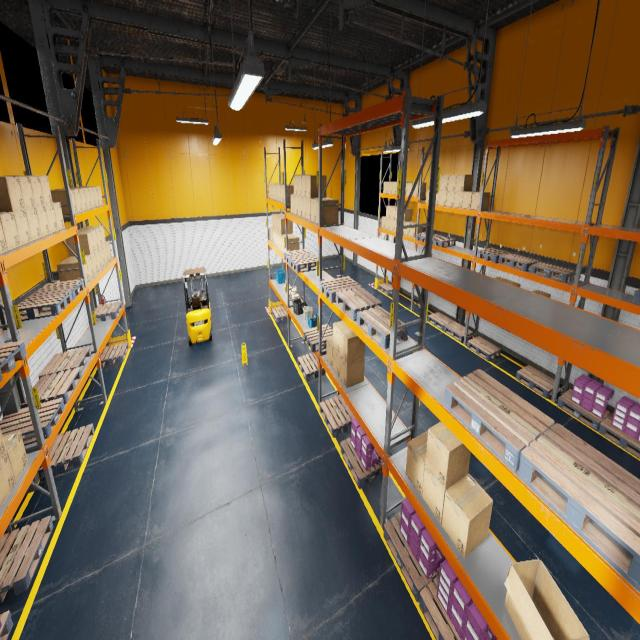box: (504, 559, 590, 639), (442, 473, 493, 558), (425, 421, 471, 489), (422, 464, 468, 524), (406, 430, 428, 496), (2, 431, 28, 483), (0, 176, 25, 212), (0, 451, 15, 508), (340, 328, 364, 363), (340, 355, 364, 388), (57, 258, 89, 282), (0, 212, 20, 250), (63, 255, 94, 279), (54, 188, 82, 213), (50, 190, 77, 215), (66, 232, 94, 256), (13, 210, 31, 245), (32, 175, 53, 205), (60, 188, 87, 211), (316, 199, 338, 225), (18, 176, 35, 209), (70, 187, 96, 208), (25, 208, 41, 242), (333, 321, 349, 354), (80, 226, 106, 246), (310, 197, 330, 223), (70, 187, 92, 209), (78, 228, 102, 248), (29, 176, 44, 207), (35, 206, 50, 237), (78, 229, 99, 251), (306, 175, 326, 198), (76, 187, 99, 206), (81, 186, 103, 205), (44, 204, 58, 233), (297, 175, 314, 196), (52, 202, 64, 231), (471, 192, 490, 210), (462, 192, 480, 210), (302, 175, 316, 197), (455, 175, 473, 191), (278, 217, 293, 234), (278, 184, 292, 202), (281, 234, 295, 252), (284, 236, 299, 252), (0, 220, 7, 253), (409, 222, 422, 237), (0, 427, 6, 459), (275, 184, 287, 200), (272, 213, 284, 229), (333, 346, 339, 377), (412, 183, 426, 196), (283, 185, 293, 203), (90, 252, 98, 274), (271, 183, 282, 199), (274, 214, 284, 230), (327, 336, 332, 367), (95, 249, 102, 271), (404, 221, 415, 235), (273, 183, 282, 200), (454, 191, 463, 208), (446, 191, 455, 207), (448, 175, 457, 191), (269, 183, 278, 198), (388, 181, 398, 194), (276, 216, 284, 232), (439, 190, 447, 206), (99, 246, 105, 267), (532, 290, 550, 297), (440, 175, 448, 190), (405, 182, 414, 195), (504, 280, 520, 287), (404, 208, 412, 222), (306, 198, 311, 220), (297, 195, 302, 217), (386, 206, 395, 218), (103, 244, 108, 264), (106, 241, 111, 260), (390, 206, 397, 219), (302, 196, 306, 218), (293, 175, 297, 195), (290, 194, 294, 213), (435, 190, 440, 204), (280, 185, 284, 202), (407, 182, 412, 195), (294, 195, 297, 215), (494, 277, 509, 281), (385, 218, 390, 230), (381, 216, 386, 228), (383, 182, 388, 194), (289, 286, 296, 294), (276, 232, 279, 248), (390, 219, 394, 231), (392, 182, 396, 194), (438, 174, 441, 190), (274, 230, 277, 245), (292, 294, 299, 300), (283, 284, 290, 290), (426, 189, 429, 203), (289, 292, 295, 298), (279, 233, 281, 249), (270, 226, 272, 242), (272, 228, 274, 243), (395, 207, 397, 220), (394, 220, 396, 232), (403, 222, 404, 234), (397, 182, 397, 194)
forklift: (183, 268, 212, 346)
pallets: (517, 423, 640, 590), (444, 369, 554, 471), (383, 512, 439, 602), (0, 516, 53, 603), (0, 398, 65, 445), (39, 424, 94, 479), (419, 576, 462, 640), (20, 367, 82, 408), (557, 389, 610, 431), (340, 437, 382, 489), (7, 290, 72, 323), (357, 306, 408, 348), (598, 413, 640, 459), (38, 346, 91, 379), (320, 394, 355, 437), (516, 365, 560, 398), (336, 288, 381, 320), (320, 276, 362, 303), (0, 340, 27, 381), (30, 279, 85, 299), (530, 262, 575, 283), (466, 336, 501, 361), (303, 324, 333, 352), (298, 353, 326, 381), (498, 253, 540, 271), (100, 342, 129, 367), (444, 321, 473, 342), (94, 301, 122, 321), (477, 248, 511, 263), (427, 312, 454, 330), (290, 255, 318, 272), (283, 249, 312, 265), (0, 610, 13, 640), (272, 306, 291, 322), (432, 236, 456, 247), (415, 233, 441, 242), (378, 282, 393, 294), (632, 288, 640, 303)
